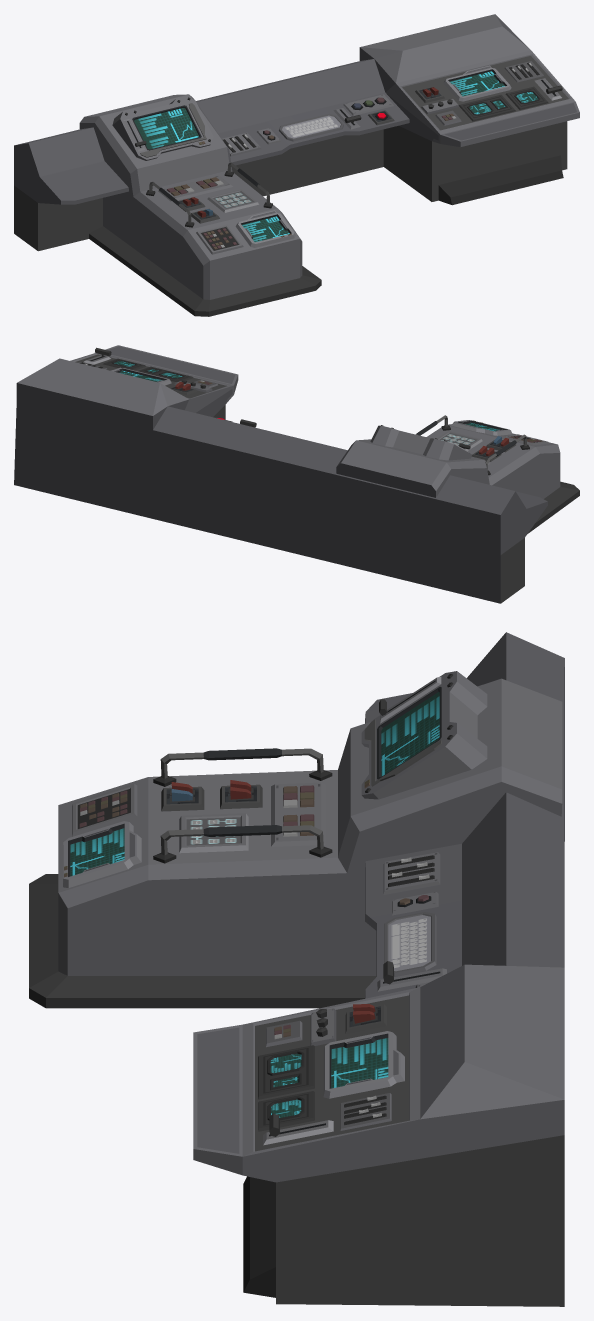
Rendered from SM_Prop_ControlPanel_01.glb.
The picture shows the model from 3 angles, top to bottom: view 1: azimuth 30°, elevation 25°; view 2: azimuth 150°, elevation 25°; view 3: azimuth 270°, elevation 25°; orthographic projection. The views are drawn at different scales.
Parts seen in each view (by area): view 1: SM_Prop_ControllPanel_01; view 2: SM_Prop_ControllPanel_01; view 3: SM_Prop_ControllPanel_01.
Boxes of the visible parts, <box> form: SM_Prop_ControllPanel_01: <box>14,14,579,316</box>; SM_Prop_ControllPanel_01: <box>14,345,579,603</box>; SM_Prop_ControllPanel_01: <box>29,632,564,1306</box>.
Bounding box in the file's own units: 5.32 × 1.28 × 2.55.
1 material, 1 textured.
